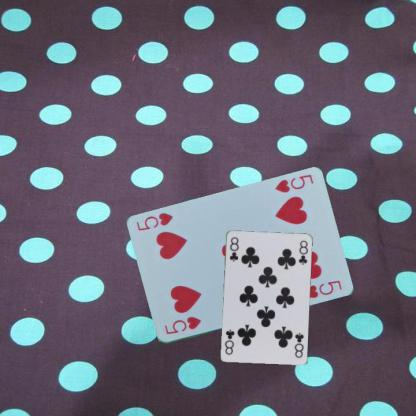5h: (272, 172, 314, 195), (162, 314, 203, 336)
8c: (227, 234, 240, 262), (292, 330, 304, 359)
